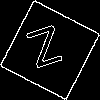Z: (25, 25, 69, 78)
